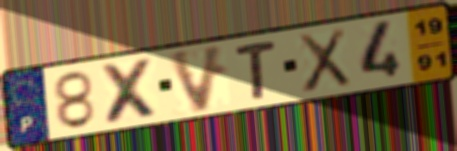4: (356, 17, 410, 84)
8: (51, 69, 97, 129)
T: (232, 38, 279, 102)
V: (165, 41, 228, 116)
X: (97, 56, 164, 127), (295, 25, 354, 96)
